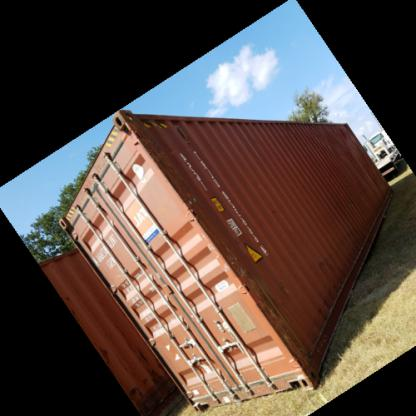Damage: (255, 275, 307, 367), (108, 115, 172, 158), (315, 246, 337, 272), (264, 198, 283, 220), (334, 126, 355, 145)
